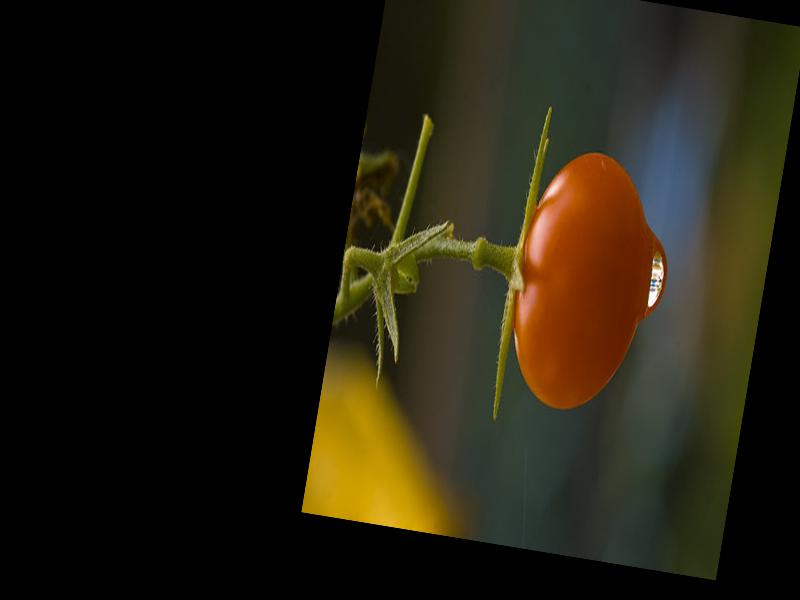Tomato: (498, 140, 665, 417)
